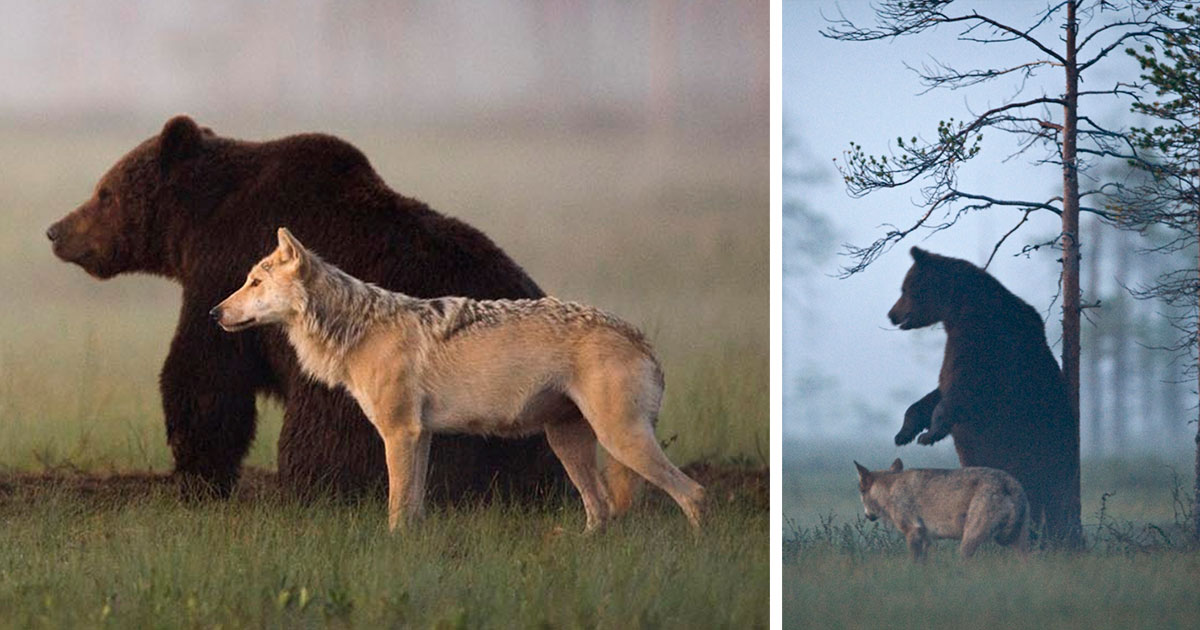bear: (41, 112, 216, 291), (882, 241, 971, 334)
